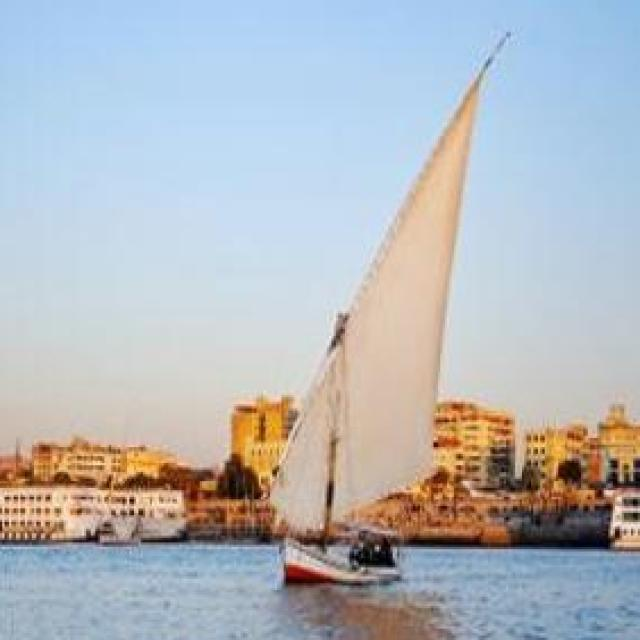sailboat: (265, 33, 508, 589)
